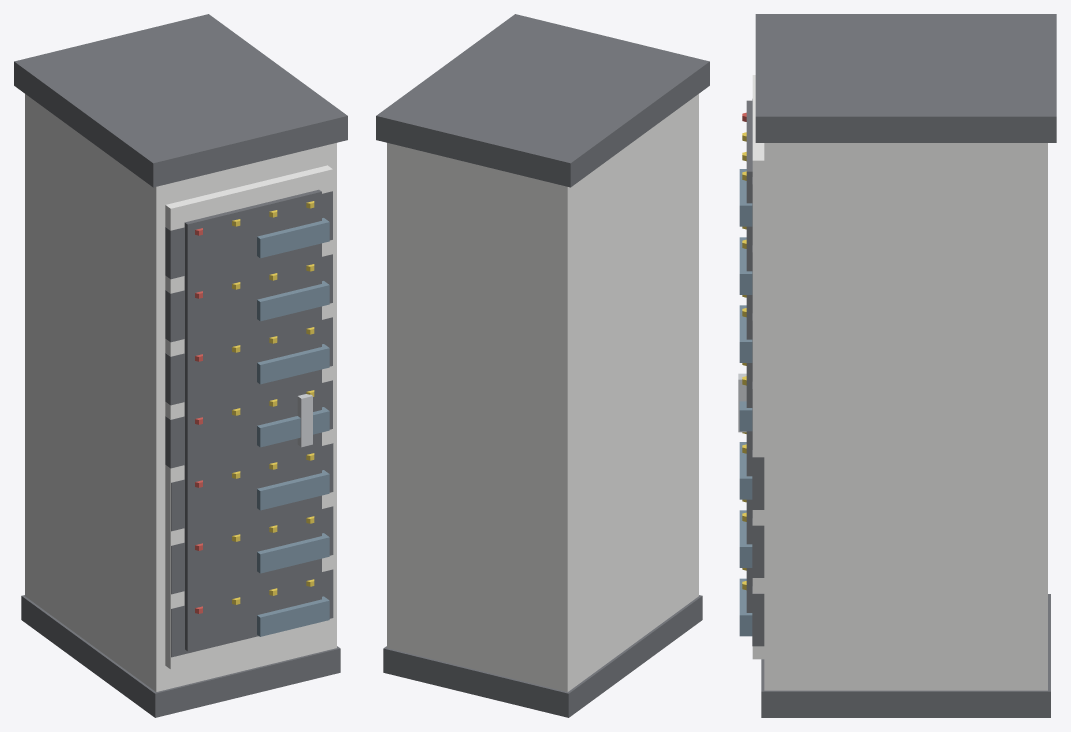
Rendered from rocket-launch-pad-and-gantry-gse-electronics-rack-52a44e4b__38207.glb.
3 views of the same model, side by side, from view 1: azimuth 30°, elevation 25°; view 2: azimuth 150°, elevation 25°; view 3: azimuth 270°, elevation 25° (orthographic). The views are drawn at different scales.
Parts seen in each view (by area): view 1: gse-electronics-rack, door-rack/charcoal, door-rack/white, door-rack/steel; view 2: gse-electronics-rack; view 3: gse-electronics-rack, door-rack/white, door-rack/charcoal.
Boxes of the visible parts, box(x1,y1,x2,y2) form: gse-electronics-rack: box(14, 14, 347, 717); door-rack/charcoal: box(184, 189, 321, 651); door-rack/white: box(165, 165, 332, 669); door-rack/steel: box(297, 394, 312, 447); gse-electronics-rack: box(376, 14, 709, 717); gse-electronics-rack: box(739, 14, 1056, 717); door-rack/white: box(752, 75, 764, 659); door-rack/charcoal: box(746, 100, 752, 612).
Size of the model in its own units: 0.8399 by 2.3 by 1.1.
